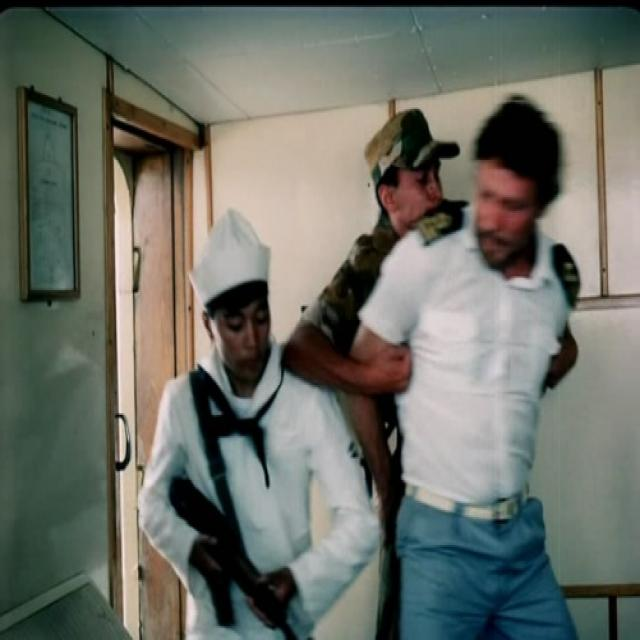rifle: (171, 473, 296, 640)
